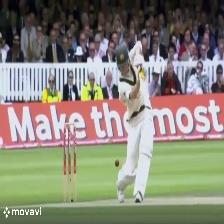ball: (110, 158, 121, 167)
batsman: (112, 43, 157, 204)
